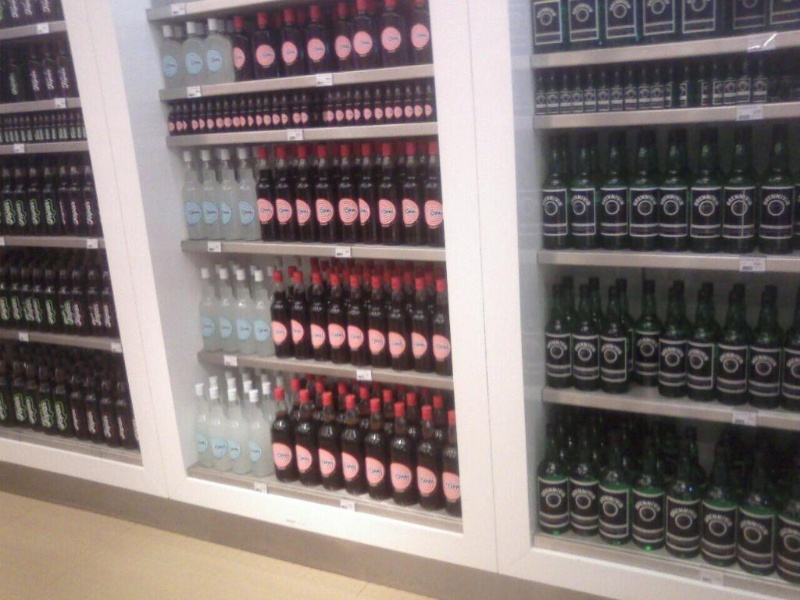wine: (142, 1, 463, 523), (525, 1, 800, 582), (1, 1, 134, 458)
